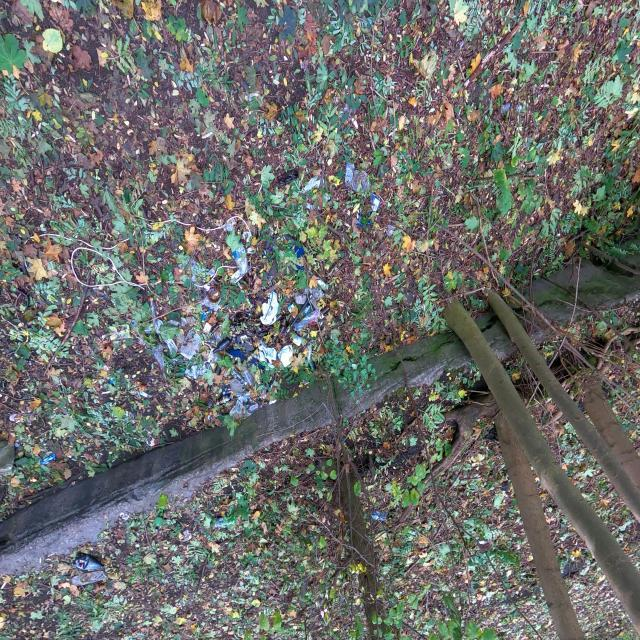rubbish: (386, 348, 619, 425), (332, 363, 379, 407), (359, 295, 410, 330), (462, 284, 508, 322), (371, 218, 412, 255), (327, 305, 355, 346), (309, 428, 340, 465), (374, 269, 416, 291), (270, 447, 296, 480), (260, 412, 284, 447), (436, 280, 461, 312), (360, 315, 380, 350), (535, 70, 568, 88), (473, 259, 489, 296), (362, 270, 382, 299), (533, 54, 570, 69), (321, 308, 346, 329), (472, 108, 486, 145), (392, 365, 407, 397), (340, 453, 365, 471), (311, 348, 332, 369), (508, 298, 531, 317), (384, 249, 400, 276), (432, 260, 456, 278), (347, 272, 363, 296), (444, 312, 473, 324), (408, 286, 428, 303), (482, 192, 499, 211), (385, 289, 404, 306), (403, 111, 427, 124), (392, 255, 409, 273), (609, 326, 621, 351), (396, 245, 411, 263), (406, 233, 424, 247), (392, 358, 410, 372), (419, 336, 433, 353), (584, 173, 602, 186), (414, 277, 432, 290), (483, 315, 491, 343), (309, 321, 322, 337), (337, 292, 350, 308), (253, 119, 270, 131), (379, 226, 396, 238), (427, 317, 440, 331), (447, 97, 462, 109), (342, 321, 353, 337), (412, 221, 431, 230), (352, 307, 361, 326), (423, 231, 436, 244), (420, 303, 431, 317), (244, 403, 255, 416), (487, 241, 502, 250), (323, 268, 333, 281), (417, 265, 427, 277), (427, 308, 438, 318), (522, 254, 531, 265), (128, 529, 137, 539), (386, 538, 394, 548), (362, 233, 371, 241), (412, 243, 419, 253), (624, 217, 631, 226), (116, 528, 123, 537), (402, 296, 409, 305), (423, 292, 430, 301), (329, 253, 337, 260)
